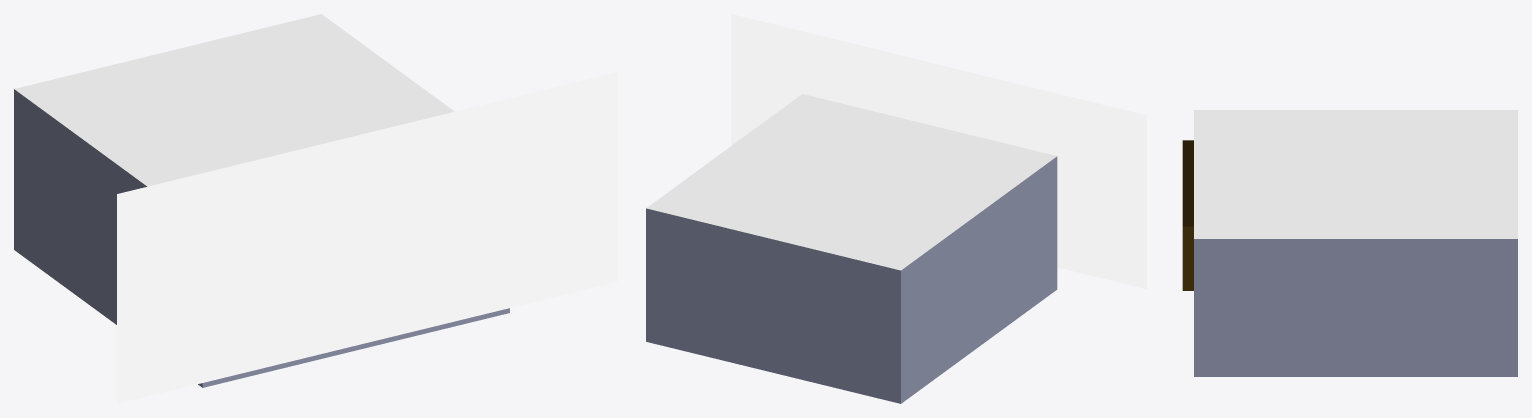
3 views of the same model, side by side, from view 1: azimuth 30°, elevation 25°; view 2: azimuth 150°, elevation 25°; view 3: azimuth 270°, elevation 25° (orthographic). The views are drawn at different scales.
Visible parts, largest first — view 1: City, Wall; view 2: Wall, City; view 3: Wall.
Part boxes in pixels (bbox=[...]): City: bbox=[117, 72, 617, 403]; Wall: bbox=[14, 14, 509, 387]; Wall: bbox=[646, 94, 1057, 403]; City: bbox=[731, 14, 1146, 289]; Wall: bbox=[1182, 110, 1517, 376].
Size of the model in its own units: 13.04 by 5.61 by 9.
